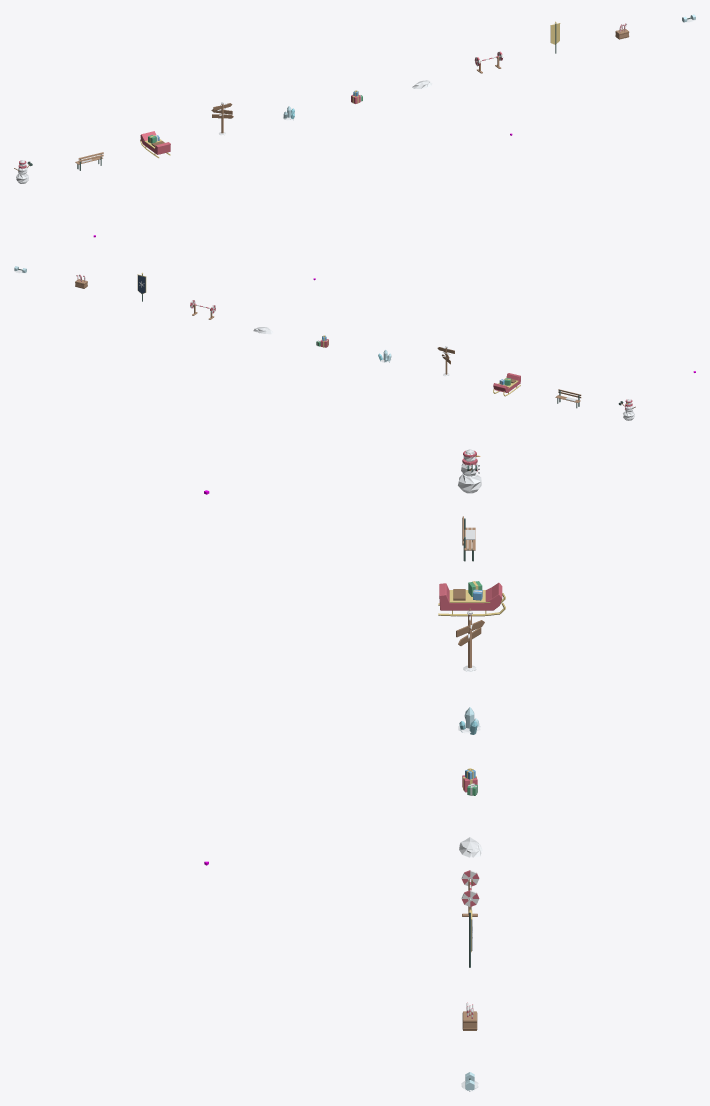
Rendered from YardKit.glb.
3 views of the same model, one above another, from view 1: azimuth 30°, elevation 25°; view 2: azimuth 150°, elevation 25°; view 3: azimuth 270°, elevation 25° (orthographic). The views are drawn at different scales.
Visible parts, largest first — view 1: no part large enough to name; view 2: no part large enough to name; view 3: Sleigh_Red.
Boxes of the visible parts, x1,y1,x2,y2 form: Sleigh_Red: (439, 582, 502, 610).
Bounding box in the file's own units: 164 × 7.61 × 34.4.
